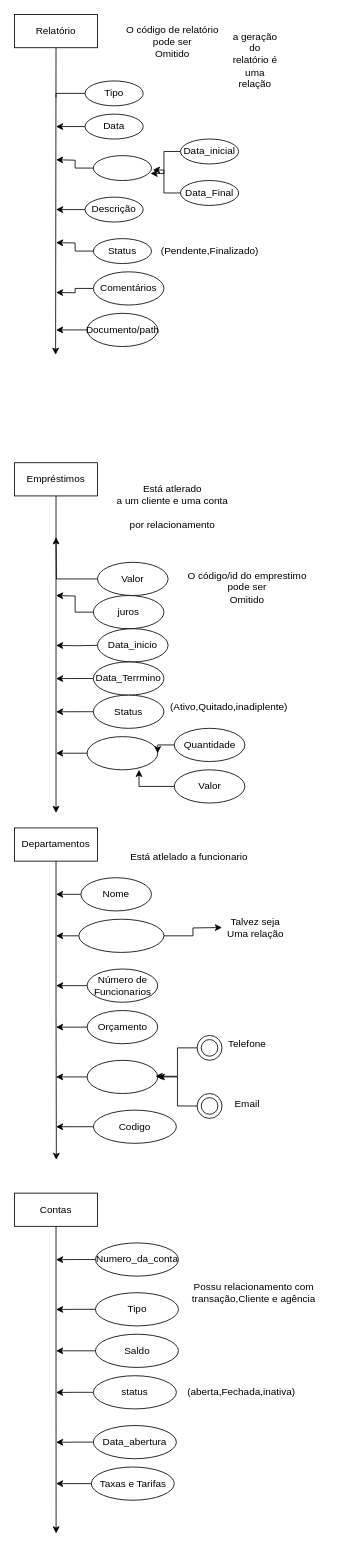
This 342x1555 diagram has some shape labels left out. Each missing label, with the centre of its shape:
"Contato" belongs at pixel 122 1076.
"Gerente/Diretor" belongs at pixel 121 935.
"Parcelas" belongs at pixel 122 753.
"Periodo" belongs at pixel 122 168.
